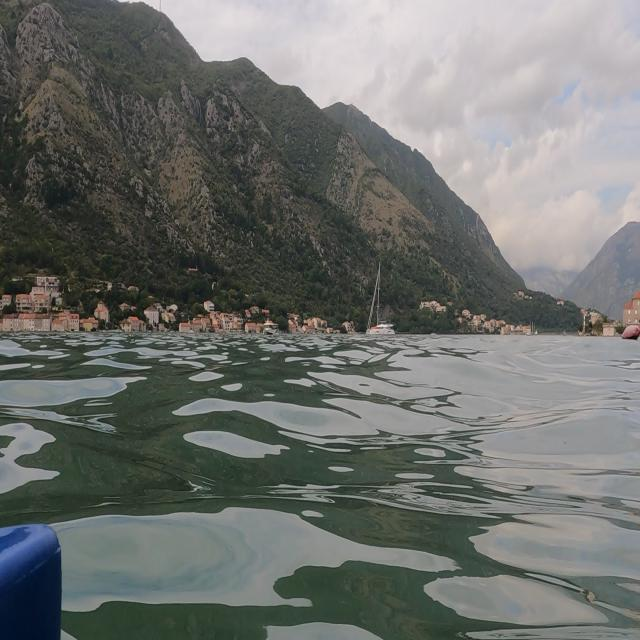boat: (364, 256, 396, 340)
